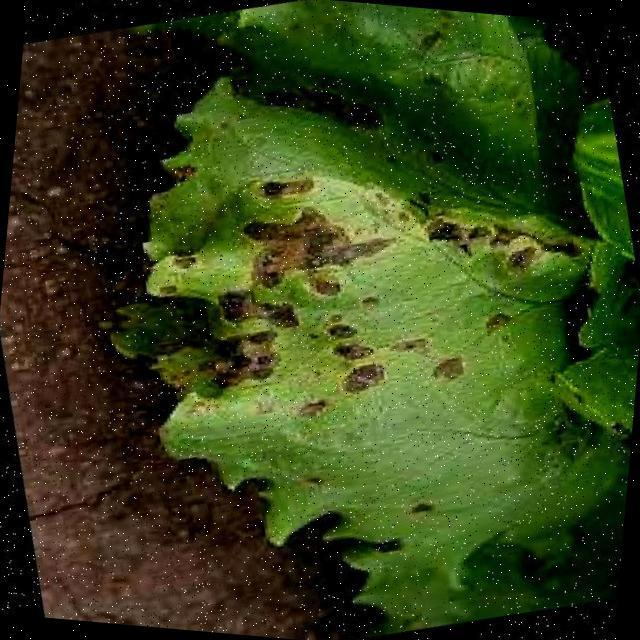Septoria_Blight: (158, 89, 564, 494)
